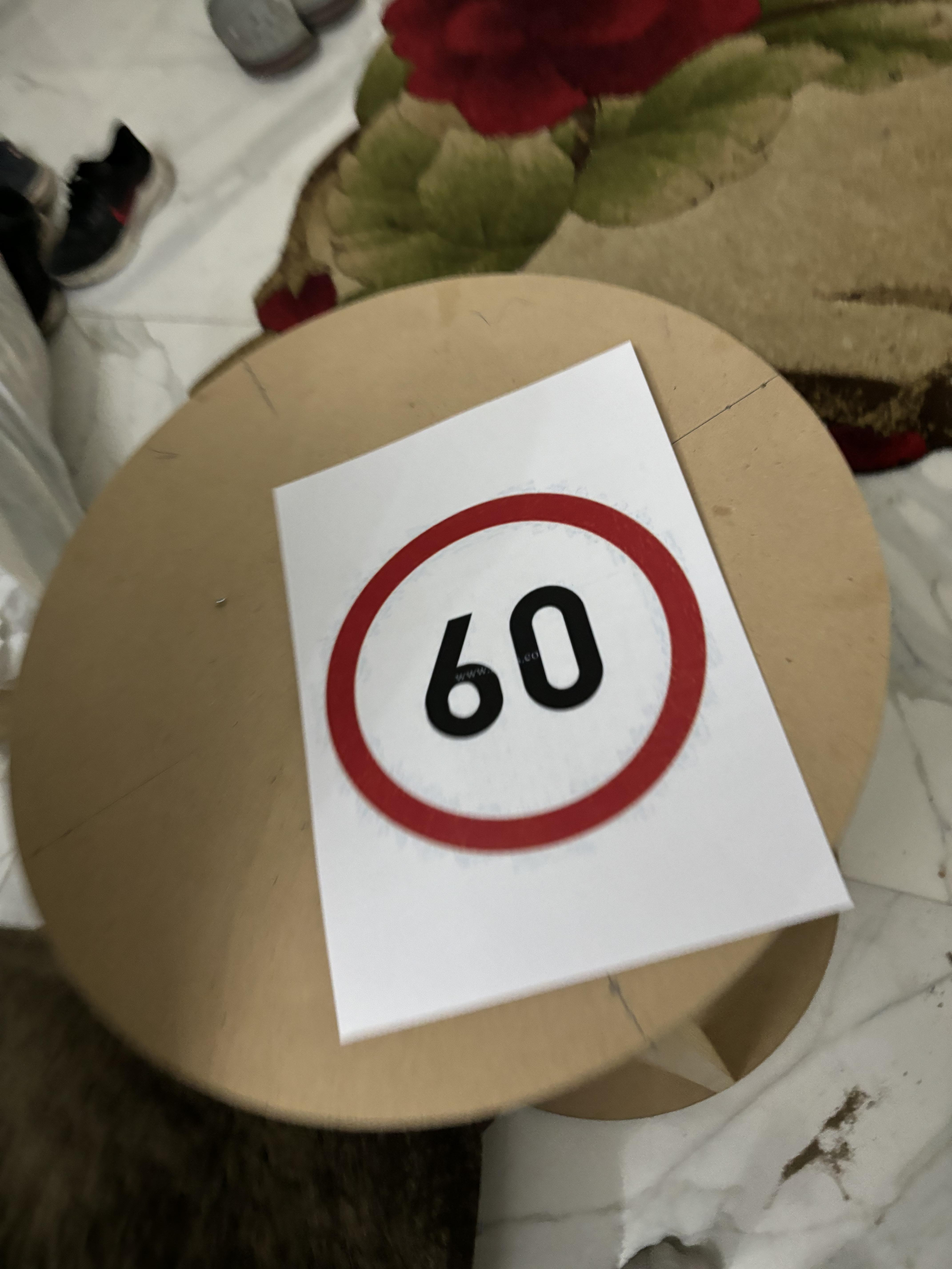60-Speed: (305, 476, 724, 865)
